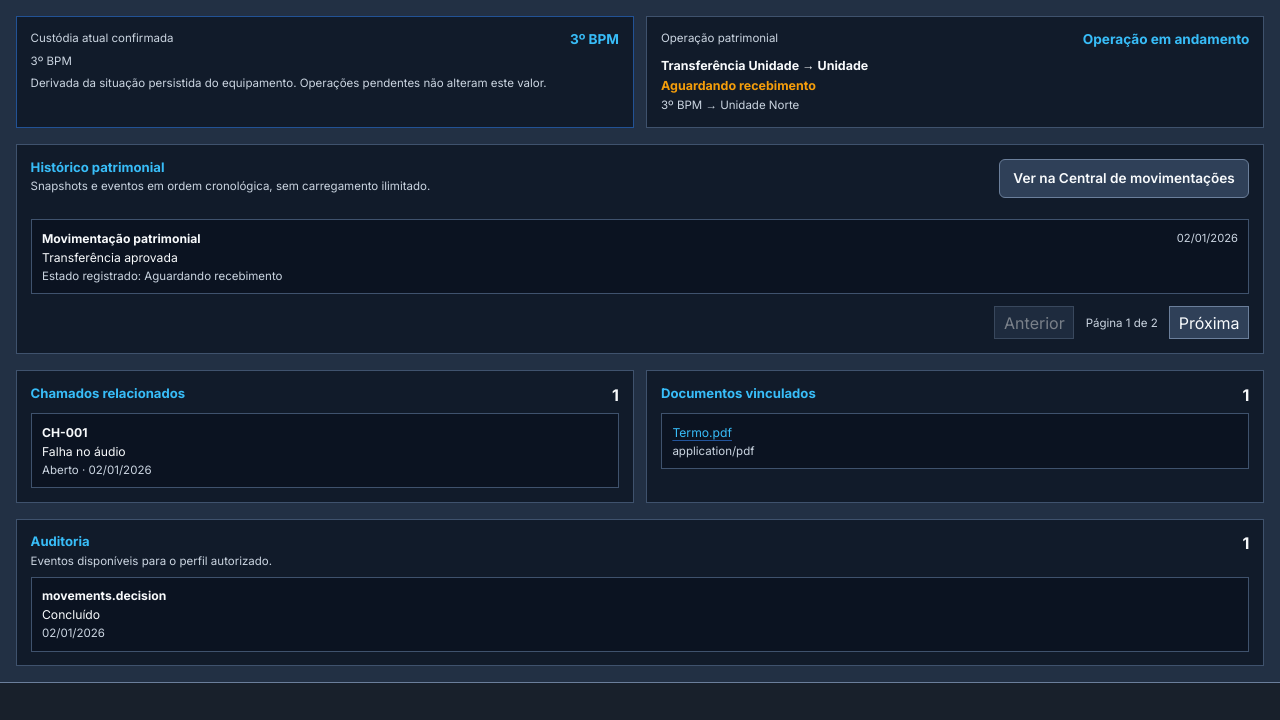
it: PatrimonialOverview › shows paged audit for DITEL and requests the next history page
Expected: the heading "Auditoria" is shown, [31,533,90,549]
Expected: the text "movements.decision" is shown, [42,588,166,603]
Click the button with aria-label "Próxima página do histórico": (1209, 323) [1169,306,1249,339]
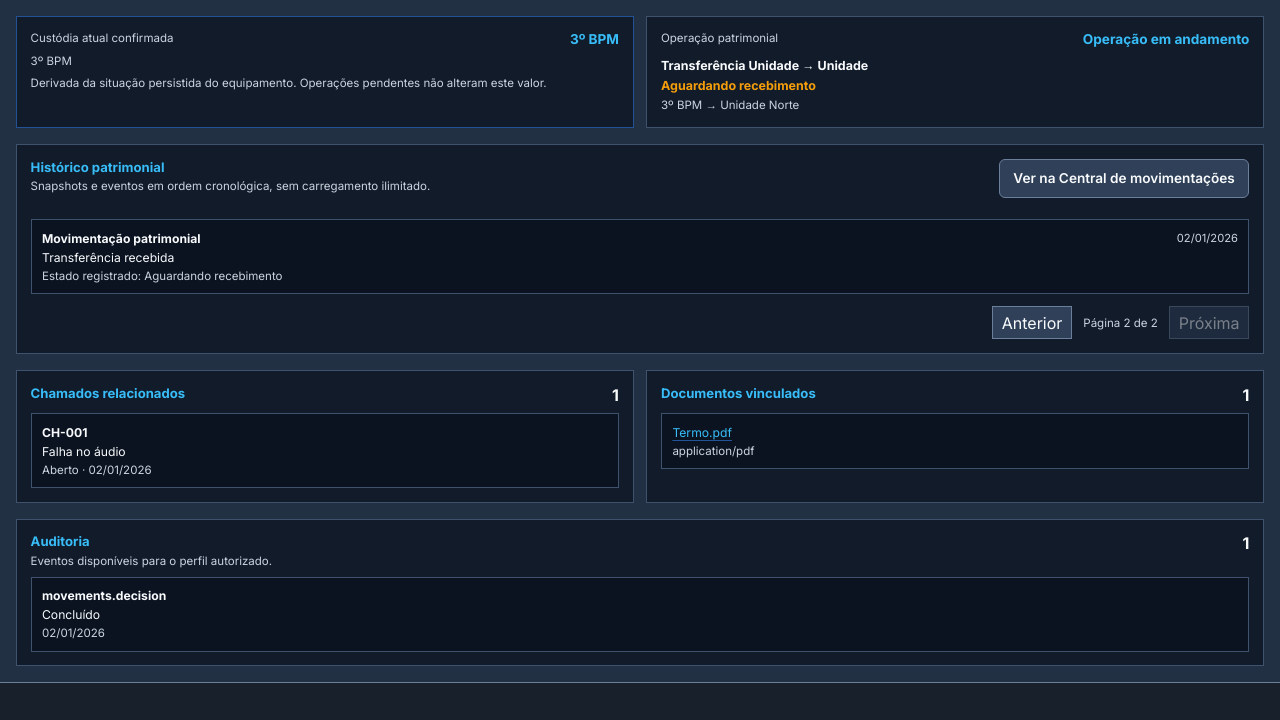
Result: the text "Transferência recebida" is shown at [42,250,174,265]
